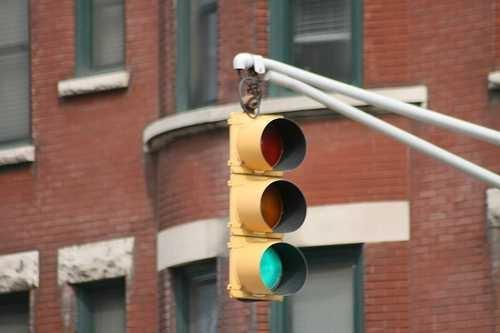2: (230, 111, 304, 306)
3: (243, 112, 304, 178), (241, 174, 302, 236)
red traffic light: (243, 237, 294, 301)
